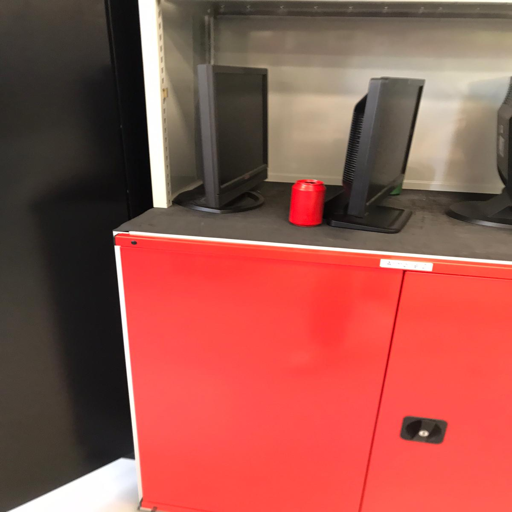Red_Can: (286, 177, 326, 226)
